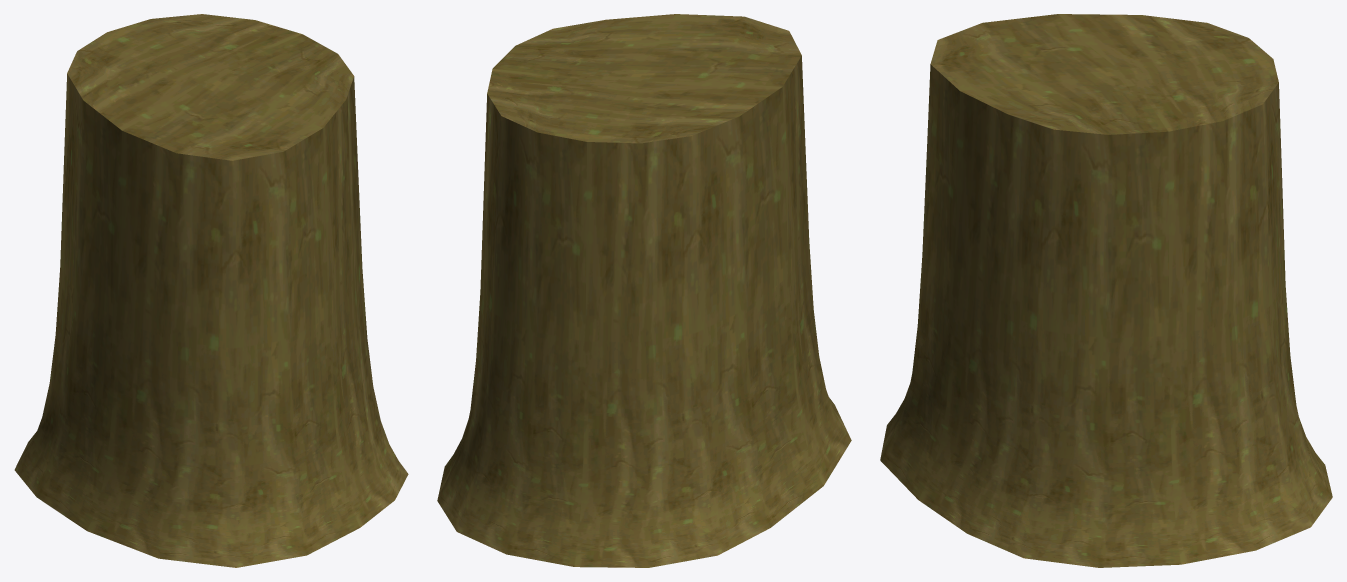
The model's file is MIRKWOOD_MIRK_PLAYSURFACE208.fbx.
3 views of the same model, side by side, from view 1: azimuth 30°, elevation 25°; view 2: azimuth 150°, elevation 25°; view 3: azimuth 270°, elevation 25° (orthographic). The views are drawn at different scales.
Visible parts, largest first — view 1: MIRKWOOD_MIRK_PLAYSURFACE208; view 2: MIRKWOOD_MIRK_PLAYSURFACE208; view 3: MIRKWOOD_MIRK_PLAYSURFACE208.
Boxes of the visible parts, box(x1,y1,x2,y2) form: MIRKWOOD_MIRK_PLAYSURFACE208: box(14, 14, 408, 567); MIRKWOOD_MIRK_PLAYSURFACE208: box(437, 14, 851, 567); MIRKWOOD_MIRK_PLAYSURFACE208: box(880, 14, 1332, 567).
Size of the model in its own units: 64541 by 76670 by 76225.
Materials: 1 (1 with a texture image).
